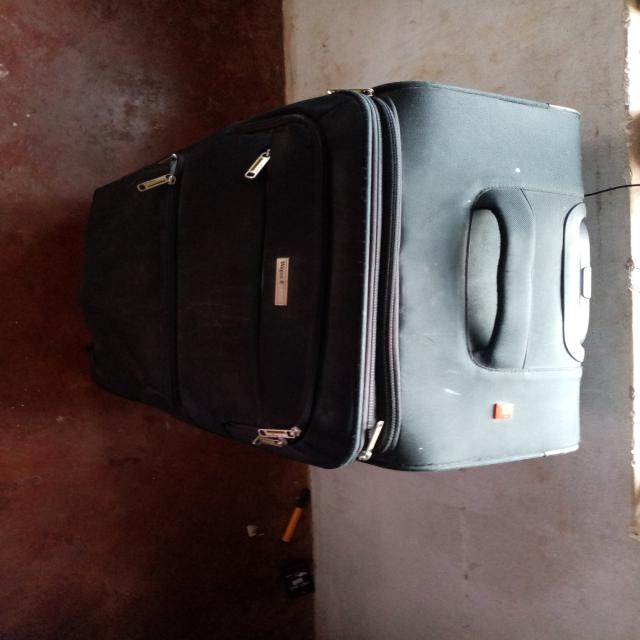suitcaserotation: (74, 78, 598, 476)
